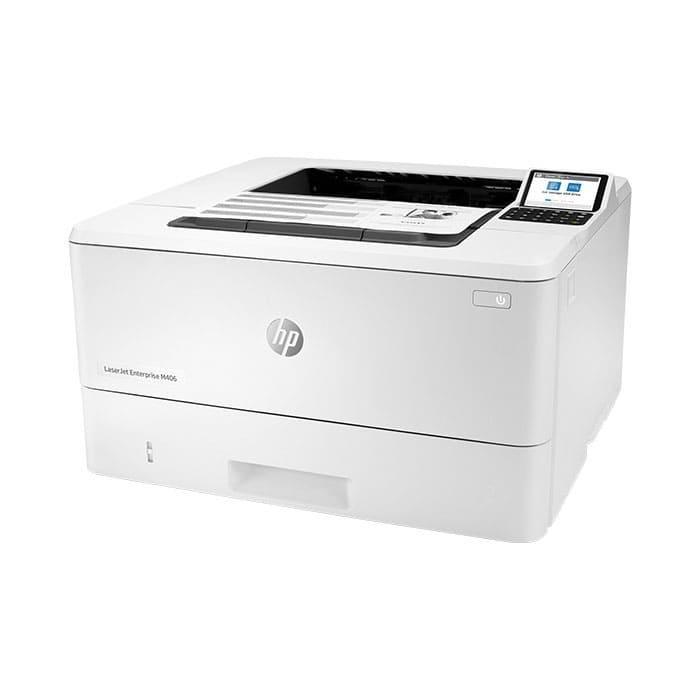Printer: (69, 156, 630, 541)
